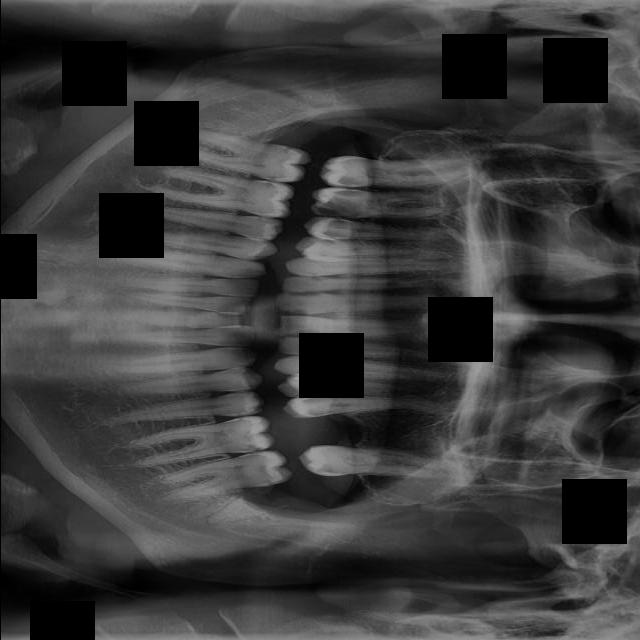72: (202, 482, 290, 530)
Sterngold Implant: (313, 196, 361, 218), (321, 217, 352, 232), (293, 385, 329, 397), (293, 385, 326, 398), (283, 327, 320, 338), (331, 188, 367, 199), (304, 406, 337, 417), (333, 175, 363, 187), (296, 394, 331, 404), (241, 443, 268, 455), (320, 229, 349, 240), (241, 427, 258, 445), (284, 291, 327, 298), (256, 178, 280, 190), (313, 237, 339, 248), (317, 464, 342, 475), (242, 451, 265, 461), (279, 308, 311, 315), (274, 317, 288, 333), (303, 275, 327, 284), (279, 145, 298, 156), (227, 392, 246, 402), (261, 173, 283, 181), (259, 463, 273, 475), (275, 159, 290, 169), (250, 216, 271, 223), (252, 210, 273, 217), (230, 417, 250, 424), (231, 410, 250, 416), (260, 479, 275, 486), (300, 377, 312, 383)
